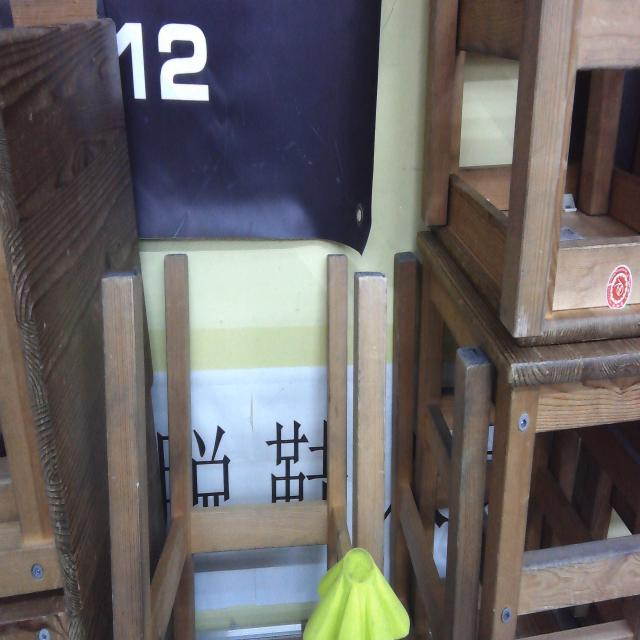Yellow-Stake-Head: (304, 546, 411, 640)
